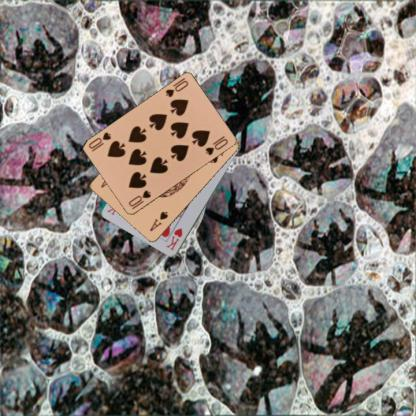10s: (126, 188, 152, 211), (163, 78, 189, 99)
As: (147, 208, 169, 233)
Kh: (164, 225, 184, 252)
